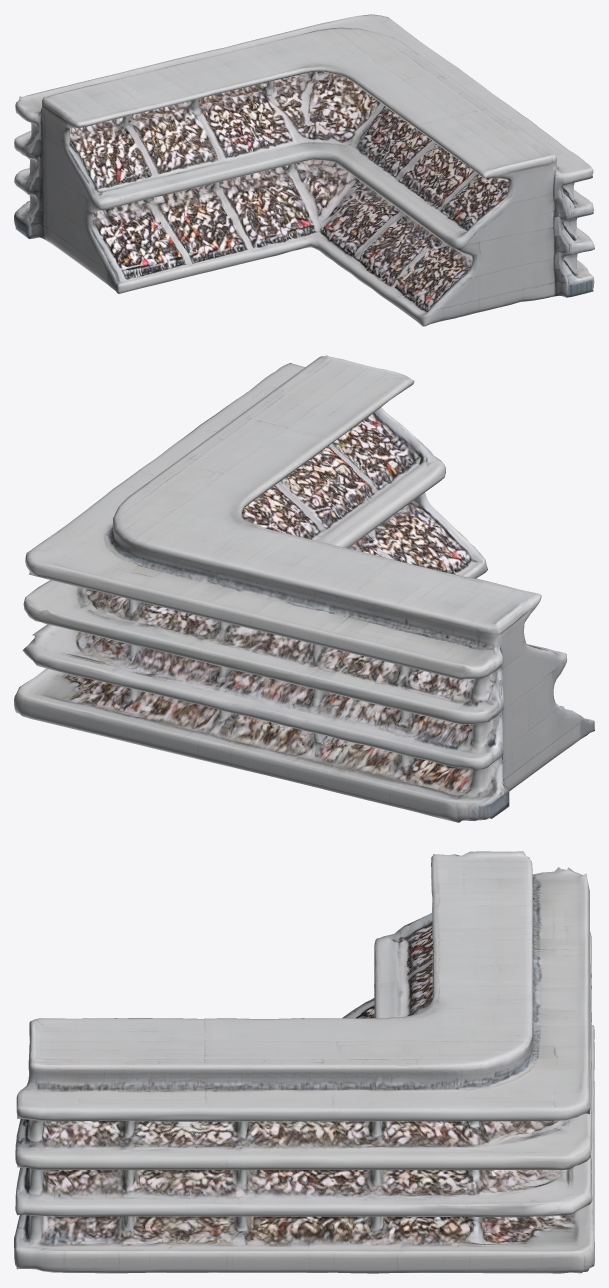
File: stadium-corner.glb
3 views of the same model, one above another, from view 1: azimuth 30°, elevation 25°; view 2: azimuth 150°, elevation 25°; view 3: azimuth 270°, elevation 25° (orthographic). The views are drawn at different scales.
Parts seen in each view (by area): view 1: model; view 2: model; view 3: model.
Boxes of the visible parts, x1,y1,x2,y2 form: model: (14,14,594,326); model: (14,355,594,822); model: (14,851,594,1273).
Size of the model in its own units: 1.88 by 0.6803 by 1.9.
1 material, 1 textured.
